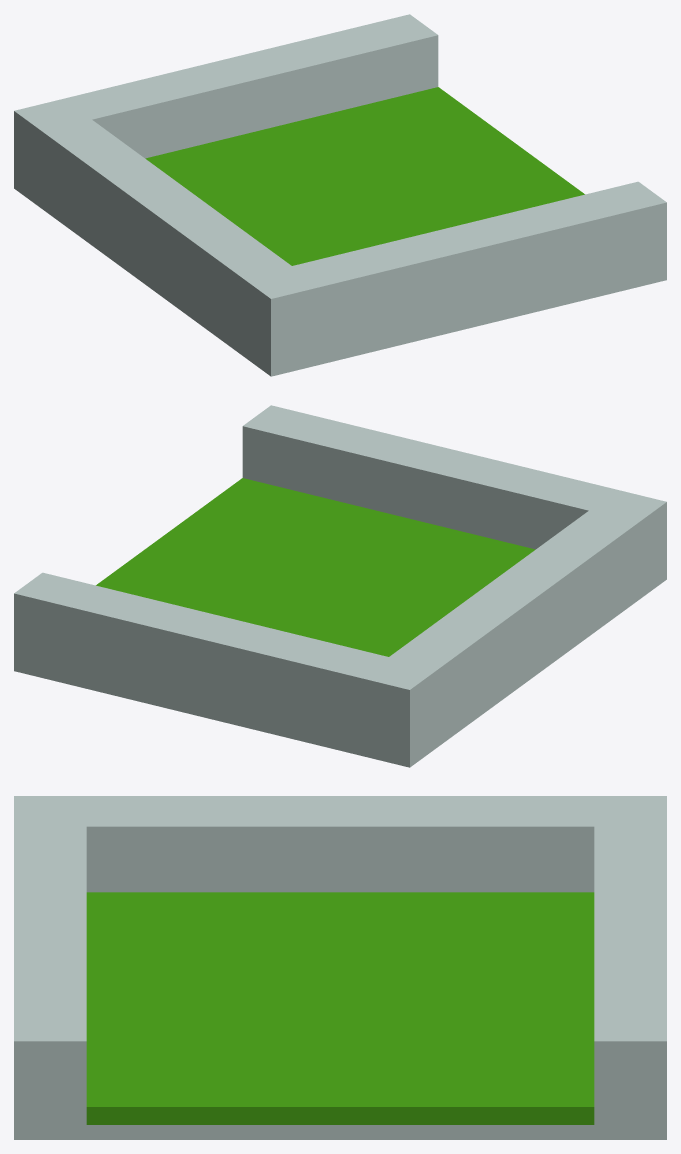
File: Zona Inicio.fbx
3 renders of one model, top to bottom at view 1: azimuth 30°, elevation 25°; view 2: azimuth 150°, elevation 25°; view 3: azimuth 270°, elevation 25°, orthographic. The views are drawn at different scales.
Parts seen in each view (by area): view 1: Zona Inicio; view 2: Zona Inicio; view 3: Zona Inicio.
Part boxes in pixels (x1,y1,x2,y2): Zona Inicio: (14,14,666,376); Zona Inicio: (14,405,666,767); Zona Inicio: (14,796,666,1139).
Bounding box in the file's own units: 80 × 15 × 90.
Materials: 1 (1 with a texture image).
